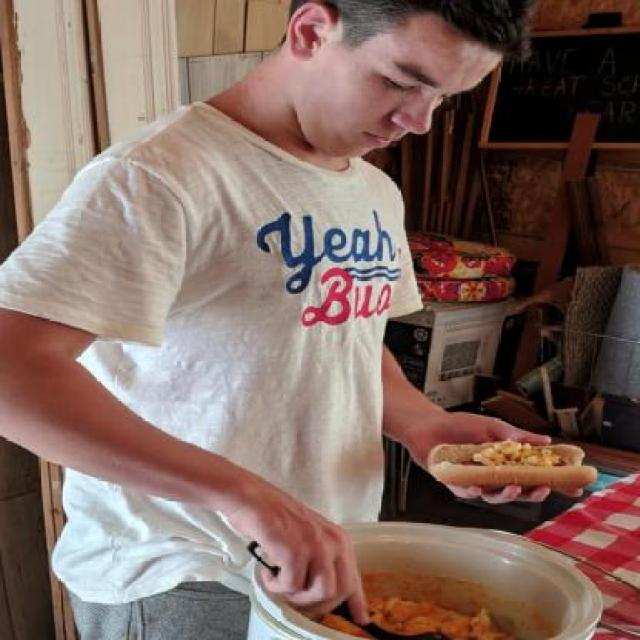hot dog: (433, 454, 598, 478)
macaroni and cheese: (269, 568, 542, 640), (459, 430, 575, 467)
